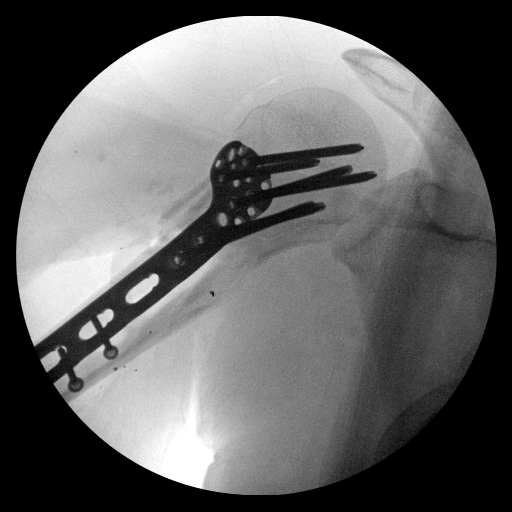implant: (196, 126, 382, 248), (48, 300, 127, 406)
